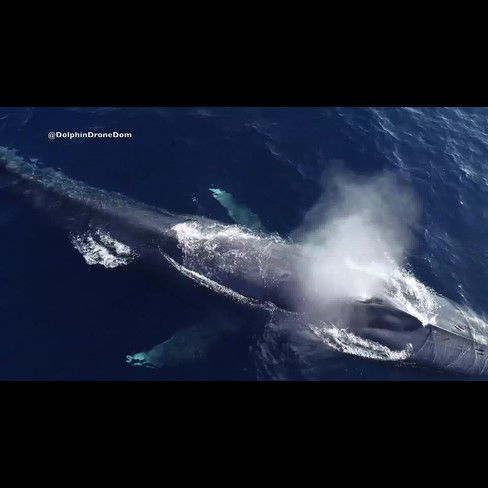bluewhale: (1, 134, 487, 382)
